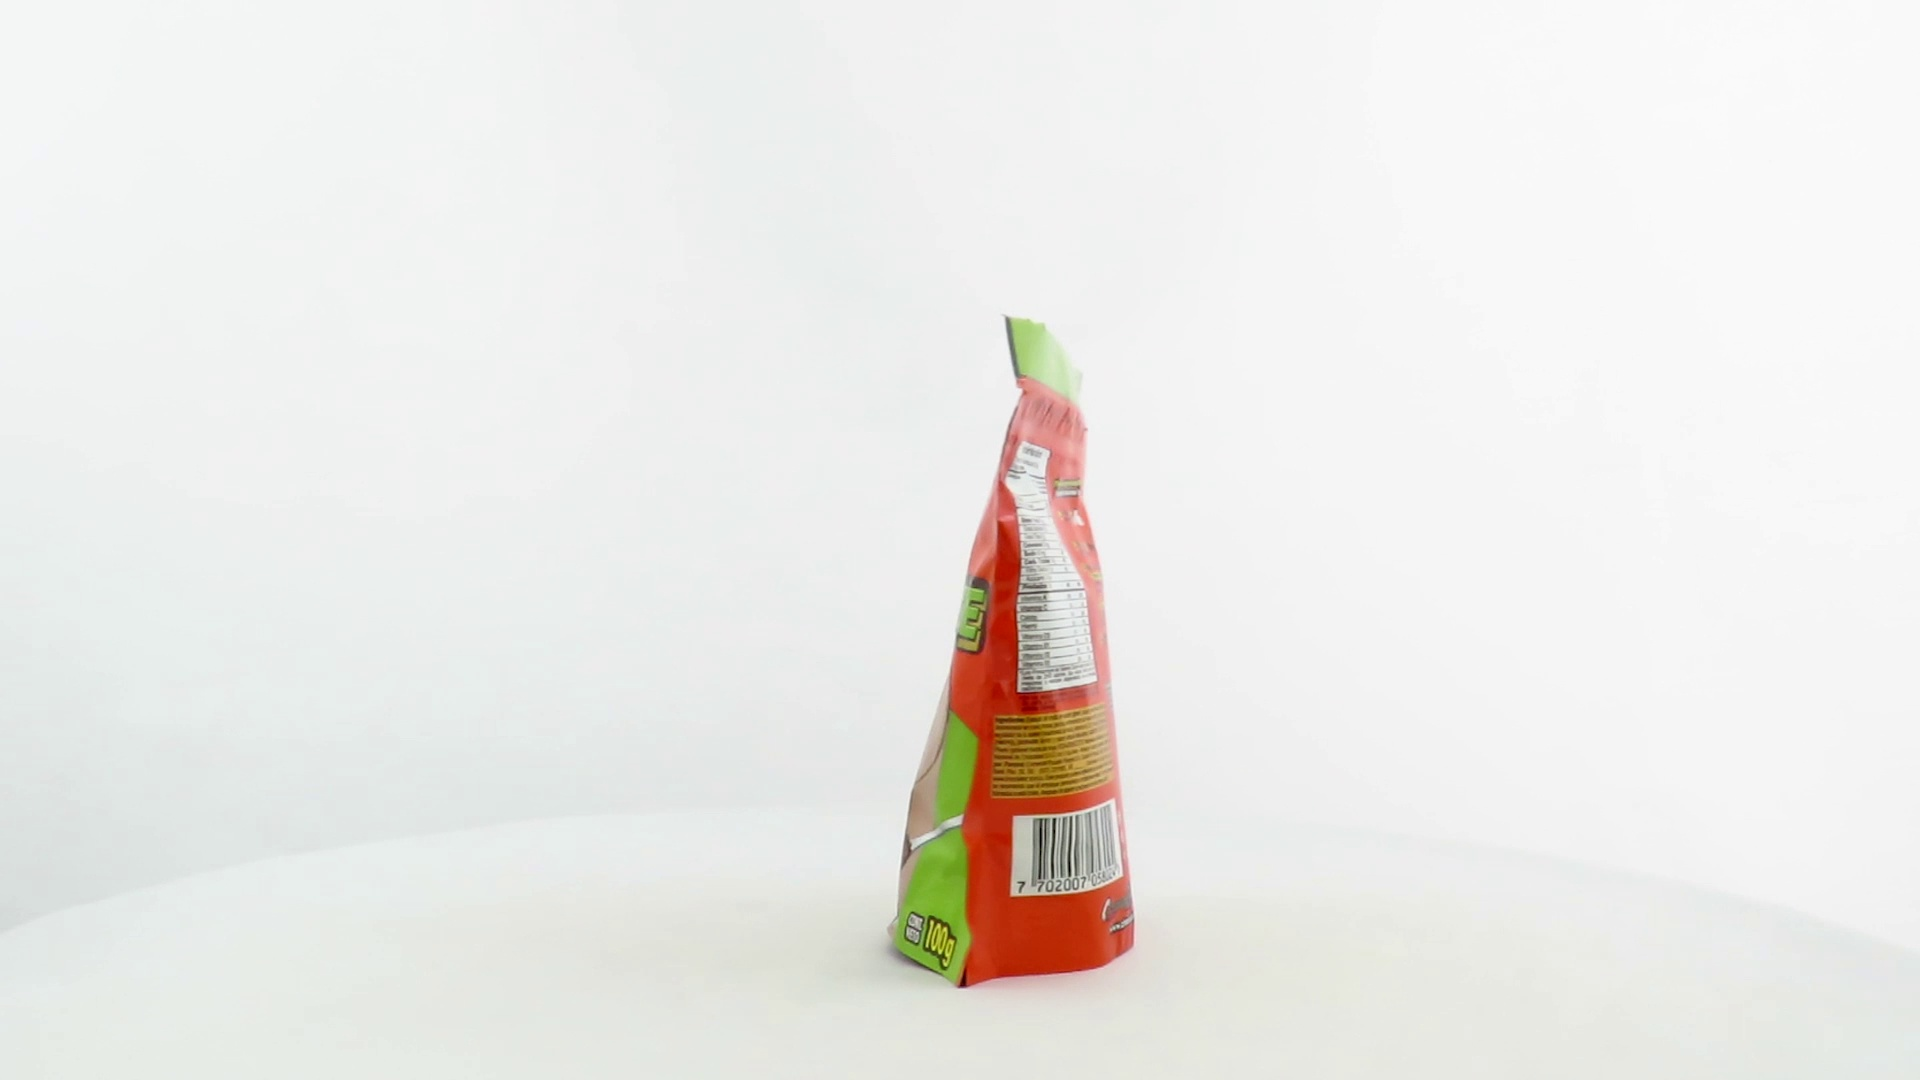COL0170102DYP10000: (881, 311, 1141, 996)
